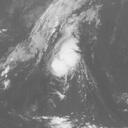cyclone: (45, 39, 80, 80)
